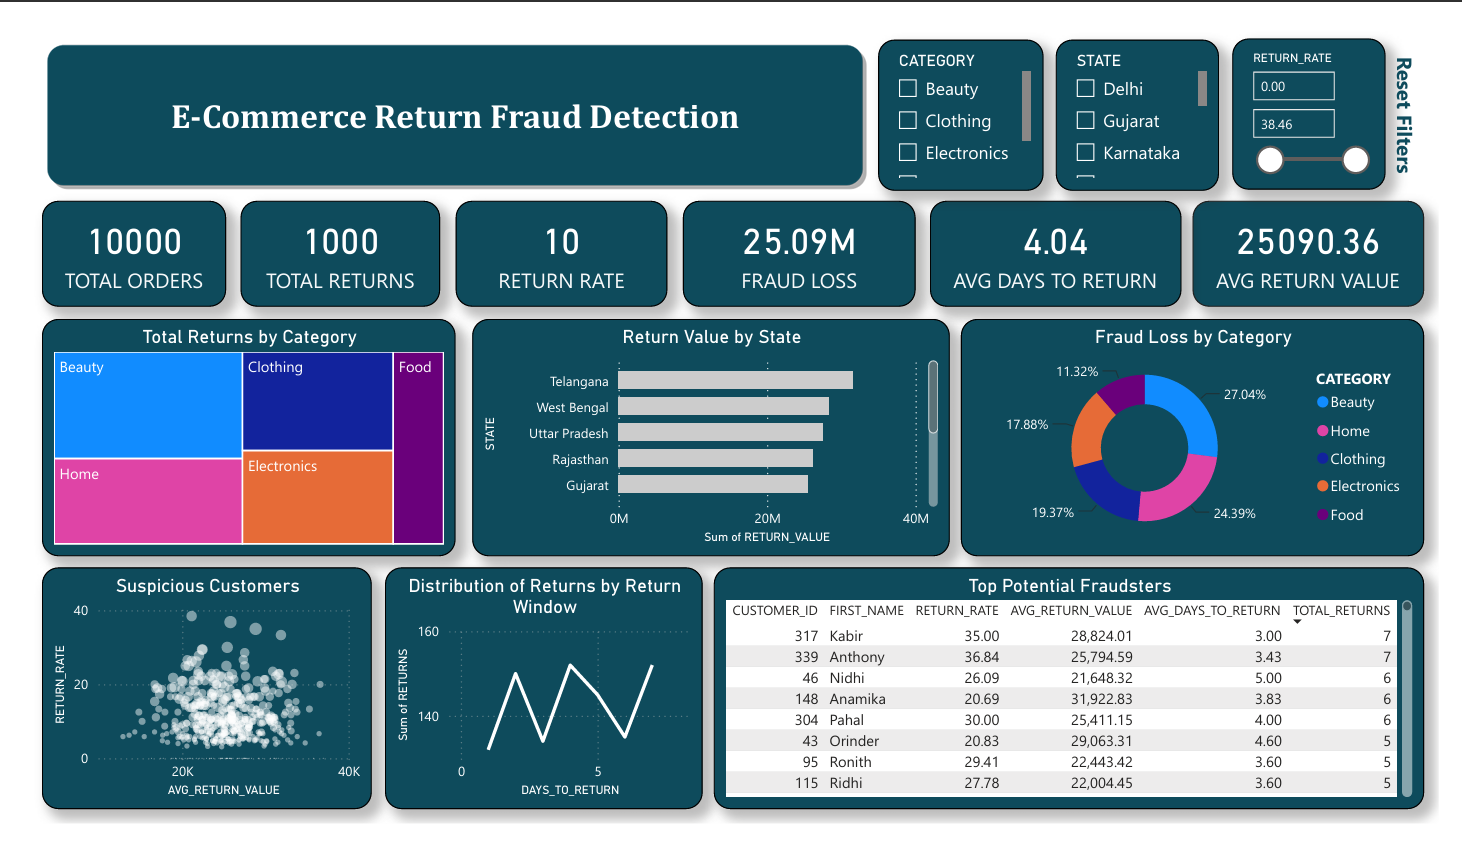

The page's visual inventory and layout, read from the dashboard file:
{"tool":"powerbi","page":{"name":"Page 1","canvas":[1280,720],"ordinal":0},"visuals":[{"type":"advanceCardE03760C5AB684758B56AA29F9E6C257B","title":"Total Orders","fields":{"mainMeasure":["Sum(VW_KPI_SUMMARY.TOTAL_ORDERS)"]},"box":[14.3,156.4,166.9,95.2],"z":0},{"type":"advanceCardE03760C5AB684758B56AA29F9E6C257B","fields":{"mainMeasure":["Sum(VW_KPI_SUMMARY.TOTAL_RETURNS)"]},"box":[194.3,156.4,181.2,95.2],"z":1000},{"type":"advanceCardE03760C5AB684758B56AA29F9E6C257B","fields":{"mainMeasure":["Sum(VW_KPI_SUMMARY.RETURN_RATE)"]},"box":[388.5,156.4,193,95.2],"z":2000},{"type":"advanceCardE03760C5AB684758B56AA29F9E6C257B","fields":{"mainMeasure":["Sum(VW_KPI_SUMMARY.AVG_RETURN_VALUE)"]},"box":[1057.3,156.4,209.9,95.2],"z":3000},{"type":"advanceCardE03760C5AB684758B56AA29F9E6C257B","fields":{"mainMeasure":["Sum(VW_KPI_SUMMARY.AVG_DAYS_TO_RETURN)"]},"box":[818.7,156.4,228.2,95.2],"z":4000},{"type":"advanceCardE03760C5AB684758B56AA29F9E6C257B","fields":{"mainMeasure":["Sum(VW_CATEGORY_ANALYSIS.FRAUD_LOSS)"]},"box":[594.5,156.4,211.2,95.2],"z":5000},{"type":"shape","box":[14.3,10.4,748.3,136.9],"z":6000},{"type":"treemap","title":"Total Returns by Category","fields":{"Values":["Sum(VW_CATEGORY_ANALYSIS.TOTAL_RETURNS)"],"Group":["VW_CATEGORY_ANALYSIS.CATEGORY"]},"box":[14.3,263.4,374.2,215.1],"z":7000},{"type":"clusteredBarChart","title":"Return Value by State","fields":{"Category":["VW_STATE_ANALYSIS.STATE"],"Y":["Sum(VW_STATE_ANALYSIS.RETURN_VALUE)"]},"box":[404.2,263.4,432.8,215.1],"z":8000},{"type":"donutChart","title":"Fraud Loss by Category","fields":{"Category":["VW_CATEGORY_ANALYSIS.CATEGORY"],"Y":["Sum(VW_CATEGORY_ANALYSIS.FRAUD_LOSS)"]},"box":[847.4,263.4,419.8,215.1],"z":9000},{"type":"scatterChart","title":"Suspicious Customers","fields":{"X":["VW_CUSTOMER_ANALYSIS.AVG_RETURN_VALUE"],"Y":["VW_CUSTOMER_ANALYSIS.RETURN_RATE"],"Size":["Sum(VW_CUSTOMER_ANALYSIS.TOTAL_RETURNS)"]},"box":[14.3,487.6,298.6,219],"z":10000},{"type":"lineChart","title":"Distribution of Returns by Return Window","fields":{"Category":["VW_RETURN_TIME.DAYS_TO_RETURN"],"Y":["Sum(VW_RETURN_TIME.RETURNS)"]},"box":[324.6,487.6,288.1,219],"z":11000},{"type":"tableEx","title":"Top Potential Fraudsters","fields":{"Values":["VW_CUSTOMER_ANALYSIS.CUSTOMER_ID","VW_CUSTOMER_ANALYSIS.FIRST_NAME","VW_CUSTOMER_ANALYSIS.RETURN_RATE","VW_CUSTOMER_ANALYSIS.AVG_RETURN_VALUE","VW_CUSTOMER_ANALYSIS.AVG_DAYS_TO_RETURN","VW_CUSTOMER_ANALYSIS.TOTAL_RETURNS"]},"box":[623.2,487.6,644,219],"z":12000},{"type":"slicer","fields":{"Values":["VW_CATEGORY_ANALYSIS.CATEGORY"]},"box":[771.8,10.4,149.9,136.9],"z":13000},{"type":"slicer","fields":{"Values":["VW_STATE_ANALYSIS.STATE"]},"box":[933.5,10.4,147.3,136.9],"z":14000},{"type":"slicer","fields":{"Values":["VW_CUSTOMER_ANALYSIS.RETURN_RATE"]},"box":[1092.5,9.1,139.5,136.9],"z":15000},{"type":"actionButton","box":[1232,10.4,35.2,135.6],"z":15001}]}

Visuals, with their boxes in screenshot pixels (x1, y1, x2, y2), scaled from the page's 1280x720 canvas onto the 1462x847 screenshot:
"Total Orders" advanceCardE03760C5AB684758B56AA29F9E6C257B: {"x1": 16, "y1": 184, "x2": 207, "y2": 296}
advanceCardE03760C5AB684758B56AA29F9E6C257B - Sum(VW_KPI_SUMMARY.TOTAL_RETURNS): {"x1": 222, "y1": 184, "x2": 429, "y2": 296}
advanceCardE03760C5AB684758B56AA29F9E6C257B - Sum(VW_KPI_SUMMARY.RETURN_RATE): {"x1": 444, "y1": 184, "x2": 664, "y2": 296}
advanceCardE03760C5AB684758B56AA29F9E6C257B - Sum(VW_KPI_SUMMARY.AVG_RETURN_VALUE): {"x1": 1208, "y1": 184, "x2": 1447, "y2": 296}
advanceCardE03760C5AB684758B56AA29F9E6C257B - Sum(VW_KPI_SUMMARY.AVG_DAYS_TO_RETURN): {"x1": 935, "y1": 184, "x2": 1196, "y2": 296}
advanceCardE03760C5AB684758B56AA29F9E6C257B - Sum(VW_CATEGORY_ANALYSIS.FRAUD_LOSS): {"x1": 679, "y1": 184, "x2": 920, "y2": 296}
shape: {"x1": 16, "y1": 12, "x2": 871, "y2": 173}
"Total Returns by Category" treemap: {"x1": 16, "y1": 310, "x2": 444, "y2": 563}
"Return Value by State" clusteredBarChart: {"x1": 462, "y1": 310, "x2": 956, "y2": 563}
"Fraud Loss by Category" donutChart: {"x1": 968, "y1": 310, "x2": 1447, "y2": 563}
"Suspicious Customers" scatterChart: {"x1": 16, "y1": 574, "x2": 357, "y2": 831}
"Distribution of Returns by Return Window" lineChart: {"x1": 371, "y1": 574, "x2": 700, "y2": 831}
"Top Potential Fraudsters" tableEx: {"x1": 712, "y1": 574, "x2": 1447, "y2": 831}
slicer - VW_CATEGORY_ANALYSIS.CATEGORY: {"x1": 882, "y1": 12, "x2": 1053, "y2": 173}
slicer - VW_STATE_ANALYSIS.STATE: {"x1": 1066, "y1": 12, "x2": 1234, "y2": 173}
slicer - VW_CUSTOMER_ANALYSIS.RETURN_RATE: {"x1": 1248, "y1": 11, "x2": 1407, "y2": 172}
actionButton: {"x1": 1407, "y1": 12, "x2": 1447, "y2": 172}
